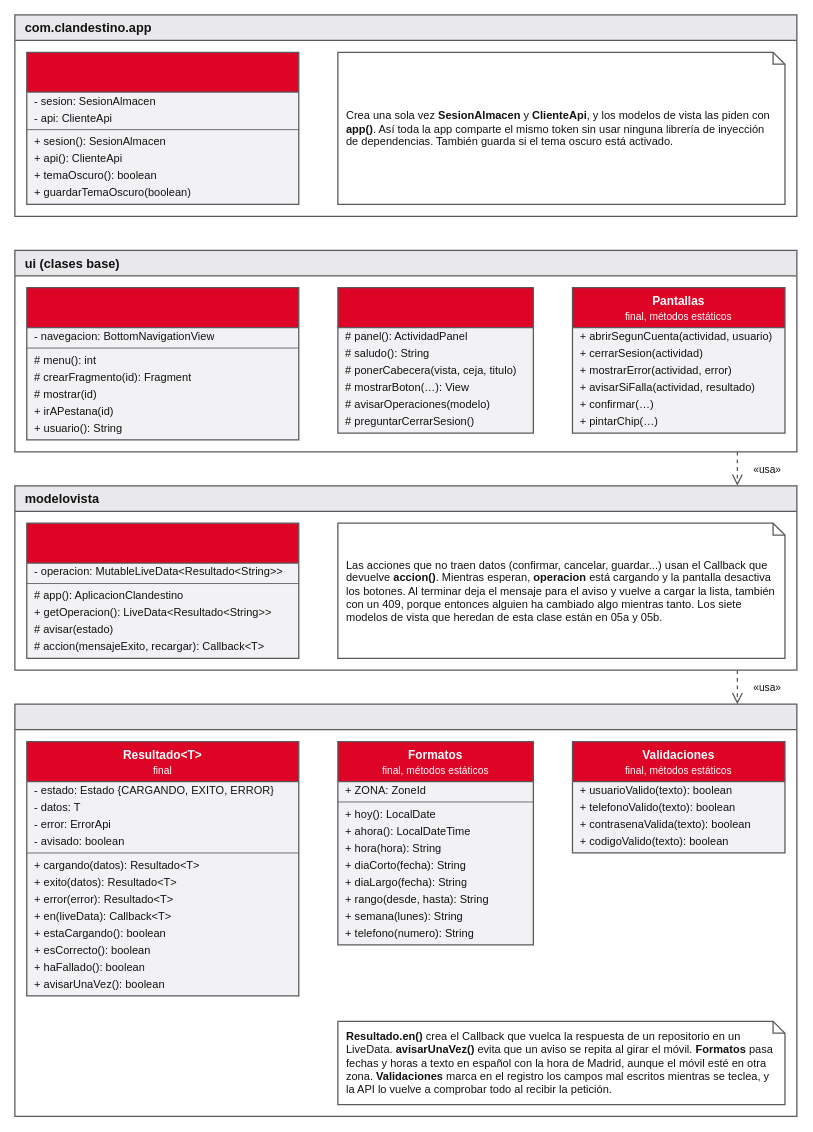
This 813x1132 diagram has some shape labels left out. Each missing label, with the box of its shape:
ActividadPanel extends AppCompatActivity: (26, 287, 299, 440)
AplicacionClandestino extends Application: (26, 51, 299, 205)
FragmentoPanel extends Fragment: (337, 287, 534, 433)
ModeloVistaBase extends AndroidViewModel: (26, 522, 299, 659)
utilidades: (14, 703, 797, 1117)
